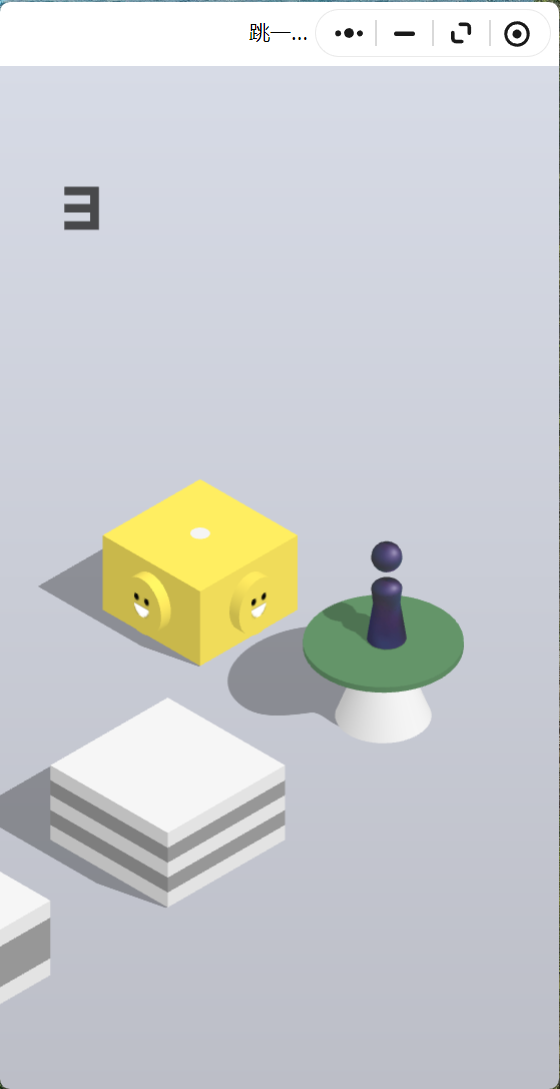piece: (371, 541, 403, 649)
target: (103, 478, 299, 590)
